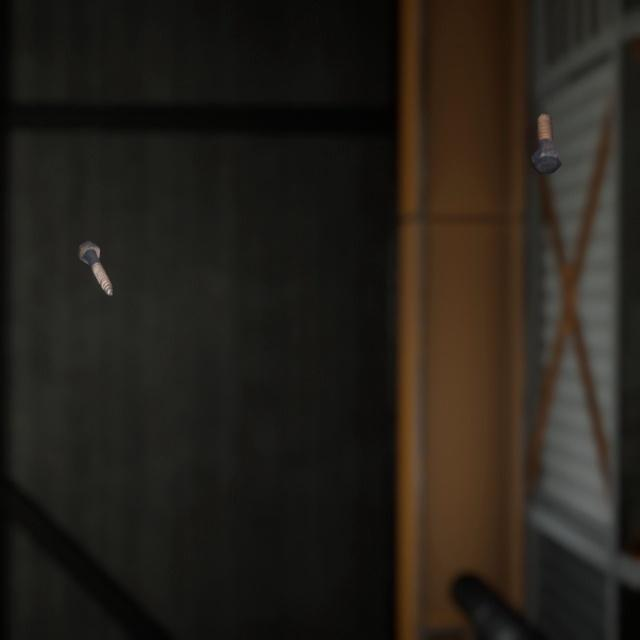bolt: (73, 220, 118, 283), (527, 96, 566, 165)
